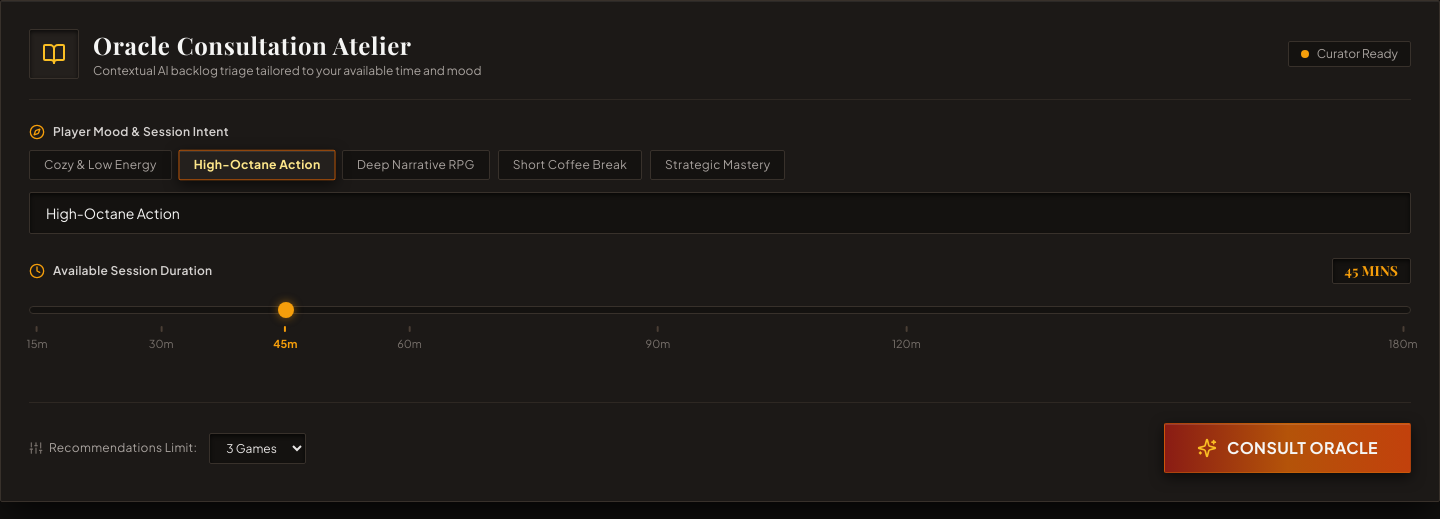
Oracle Components › OraclePanel › updates mood input when clicking a mood preset chip
The image size is (1440, 519).
Click the button "Deep Narrative RPG" at [416, 165], box [342, 150, 490, 180]
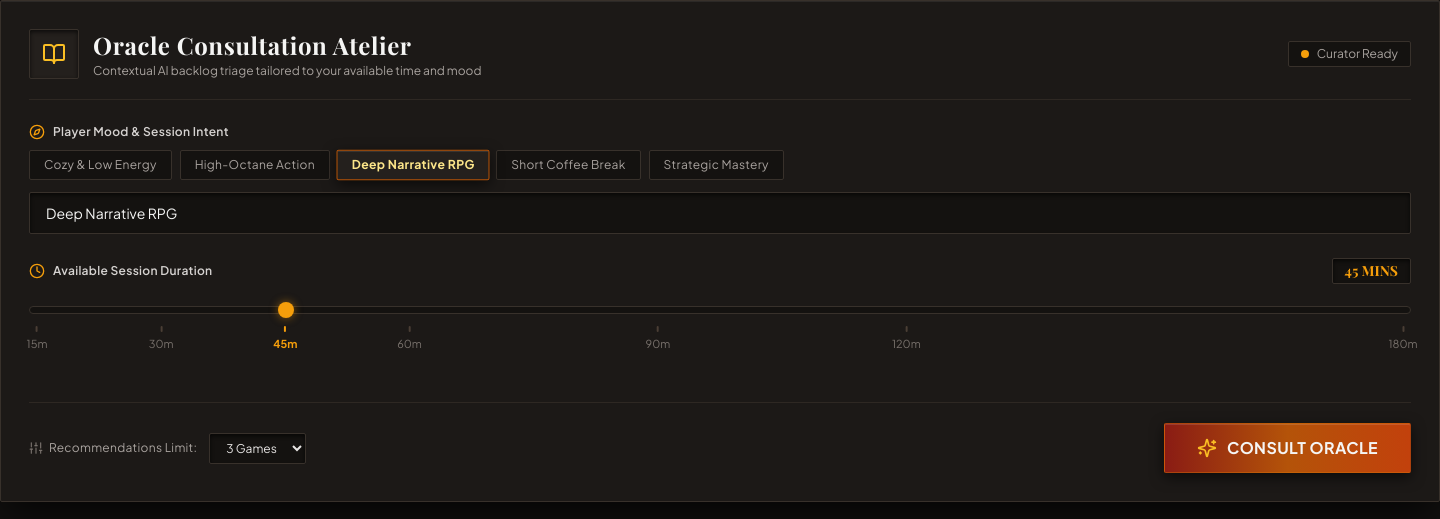
Result: the field labelled "Player Mood & Session Intent" holds "Deep Narrative RPG" at [29, 192, 1411, 234]
